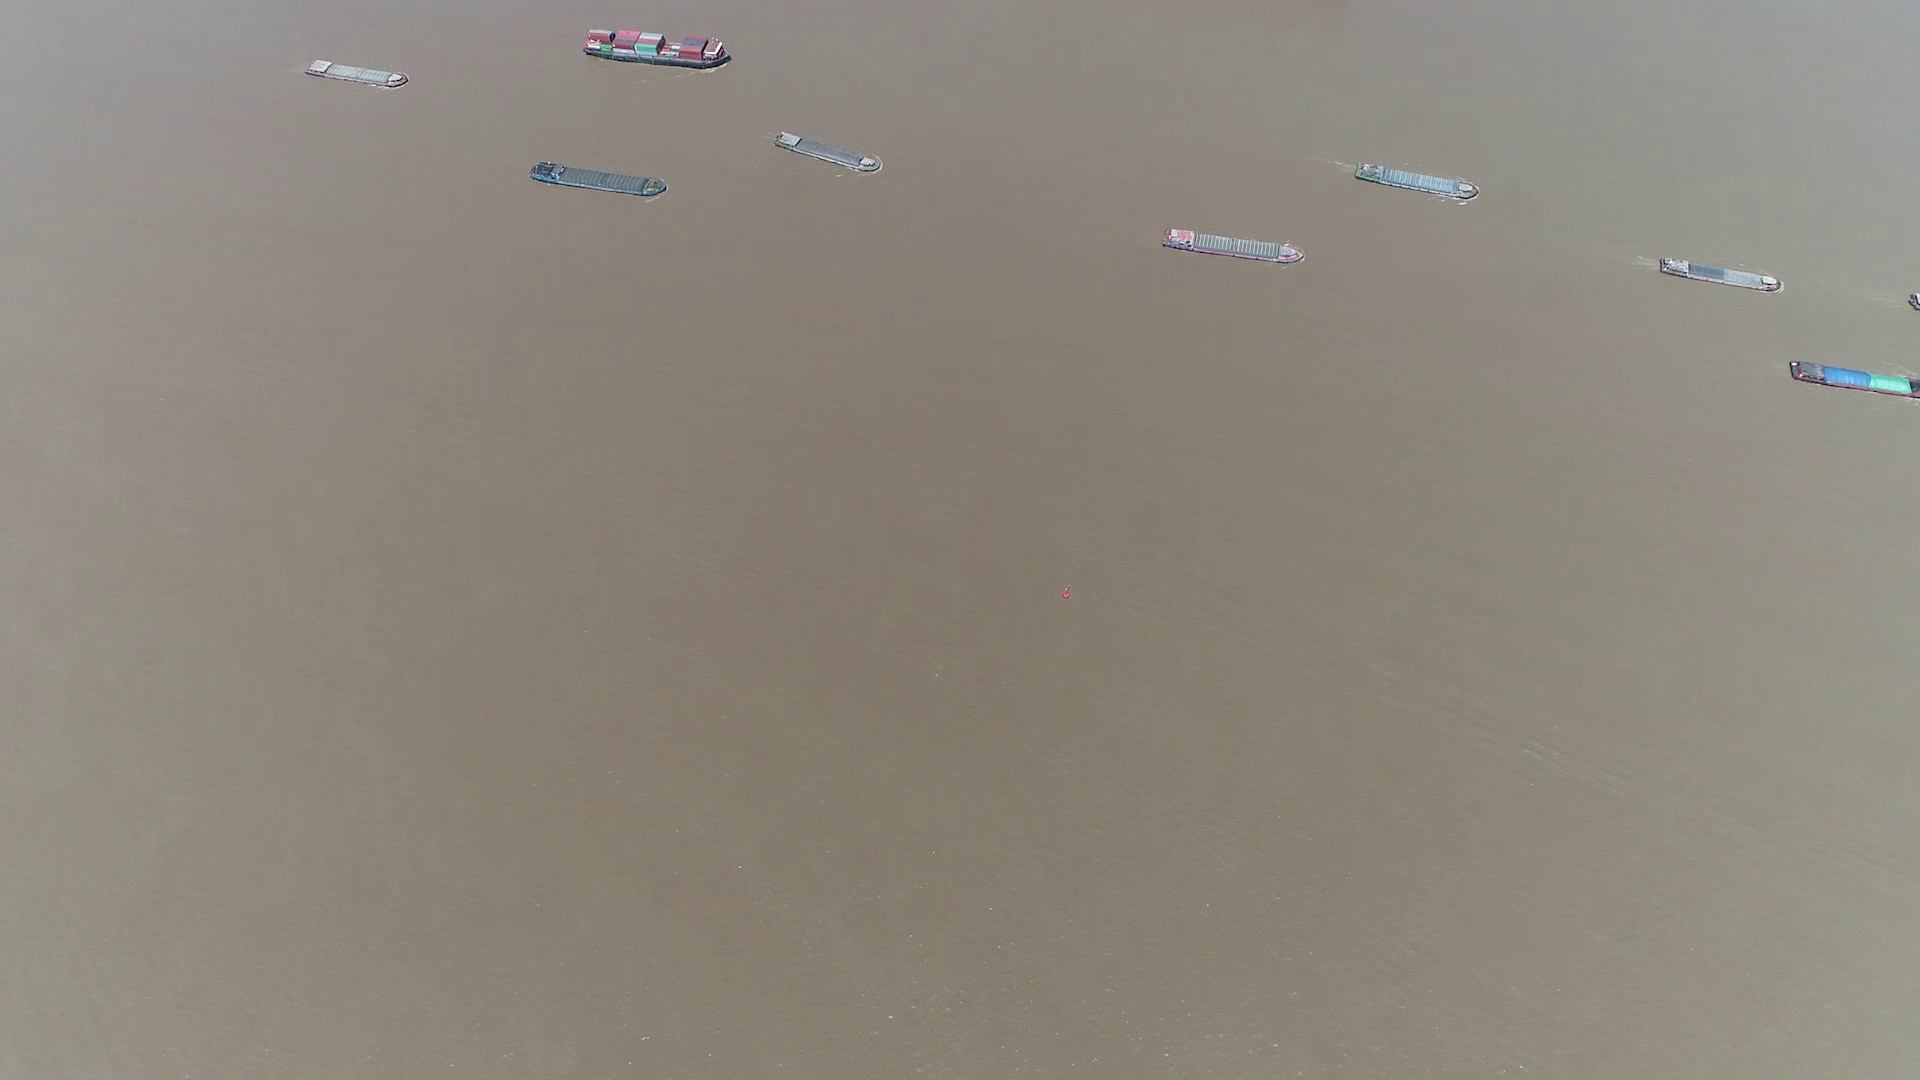ship: (583, 29, 735, 69), (1353, 161, 1481, 202), (1163, 228, 1304, 265), (1788, 360, 1919, 400), (529, 162, 667, 199), (771, 133, 884, 177), (1656, 256, 1784, 293), (305, 59, 407, 88)
